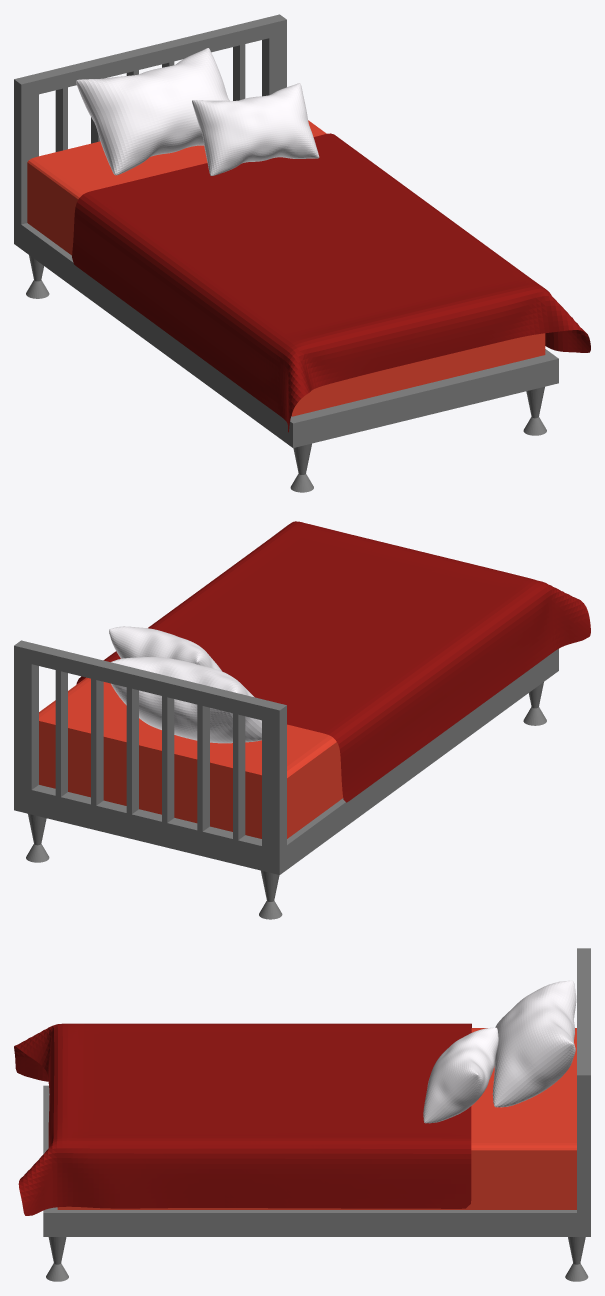
File: bed.fbx
3 views of the same model, one above another, from view 1: azimuth 30°, elevation 25°; view 2: azimuth 150°, elevation 25°; view 3: azimuth 270°, elevation 25° (orthographic).
Parts seen in each view (by area): view 1: yatak; view 2: yatak; view 3: yatak.
Boxes of the visible parts, box(x1,y1,x2,y2) form: yatak: box(14, 14, 590, 492); yatak: box(14, 521, 590, 919); yatak: box(14, 948, 590, 1281).
Size of the model in its own units: 240 by 160 by 400.
